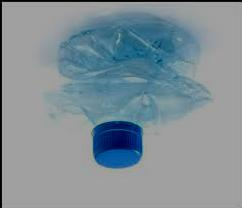Plastic: (37, 15, 214, 168)
